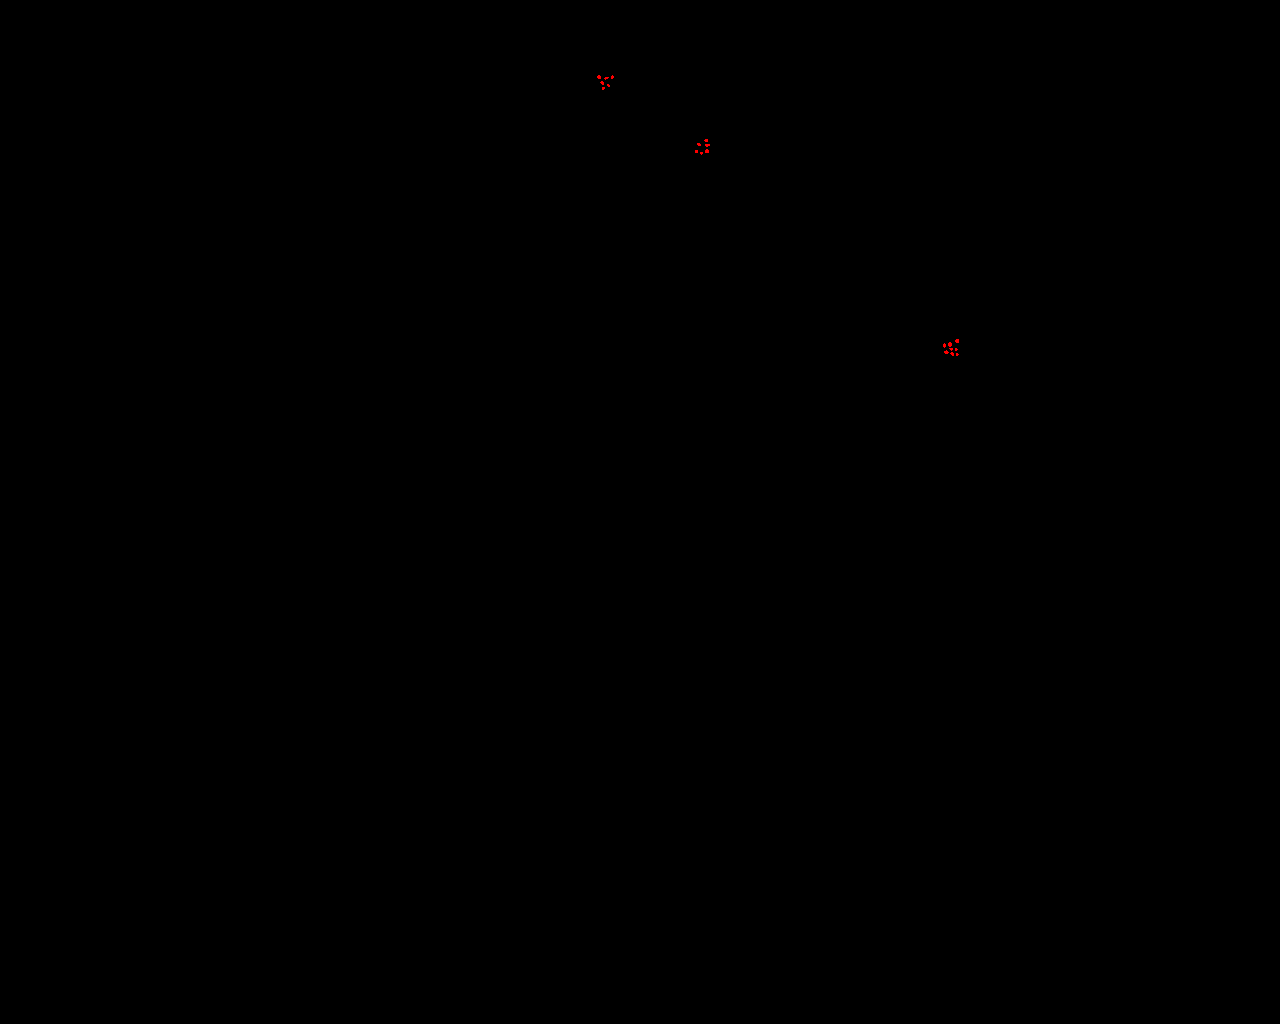Target: (948, 342, 952, 347), (944, 350, 949, 354), (597, 75, 601, 79), (955, 339, 959, 343), (950, 352, 954, 356), (604, 77, 609, 80), (942, 343, 946, 348), (611, 75, 614, 79), (600, 82, 604, 85), (704, 139, 708, 142), (697, 143, 701, 146), (705, 144, 709, 147), (705, 149, 709, 153), (949, 348, 953, 351), (607, 84, 610, 87), (602, 87, 605, 90), (700, 152, 703, 155), (955, 348, 958, 351), (956, 353, 959, 356), (695, 150, 698, 153)
